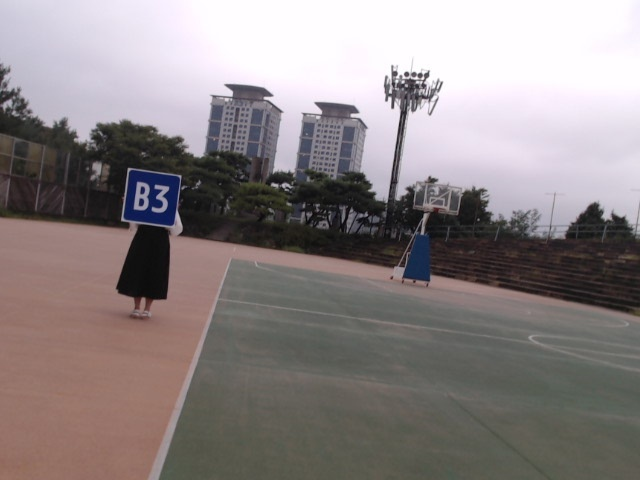delivery_b3: (122, 168, 181, 228)
